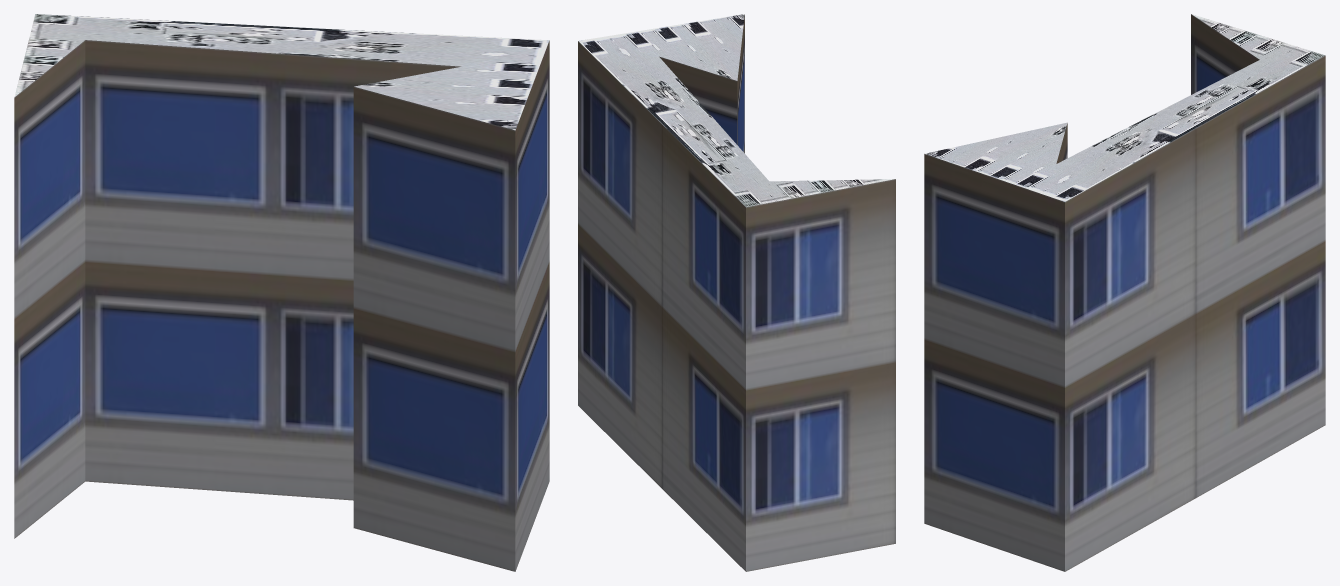
File: ResTex__5075.fbx
3 renders of one model, left to right at view 1: azimuth 30°, elevation 25°; view 2: azimuth 150°, elevation 25°; view 3: azimuth 270°, elevation 25°, orthographic. The views are drawn at different scales.
Visible parts, largest first — view 1: CityEngineMaterial_23_m, CityEngineMaterial_2_m; view 2: CityEngineMaterial_23_m, CityEngineMaterial_2_m; view 3: CityEngineMaterial_23_m, CityEngineMaterial_2_m.
Part boxes in pixels (x1=…): CityEngineMaterial_23_m: x1=14, y1=40, x2=549, y2=571; CityEngineMaterial_2_m: x1=14, y1=14, x2=549, y2=130; CityEngineMaterial_23_m: x1=578, y1=14, x2=895, y2=571; CityEngineMaterial_2_m: x1=578, y1=14, x2=895, y2=207; CityEngineMaterial_23_m: x1=924, y1=14, x2=1325, y2=571; CityEngineMaterial_2_m: x1=925, y1=14, x2=1324, y2=201.
Size of the model in its own units: 6.54 by 6 by 5.9.
Materials: 2 (2 with a texture image).
